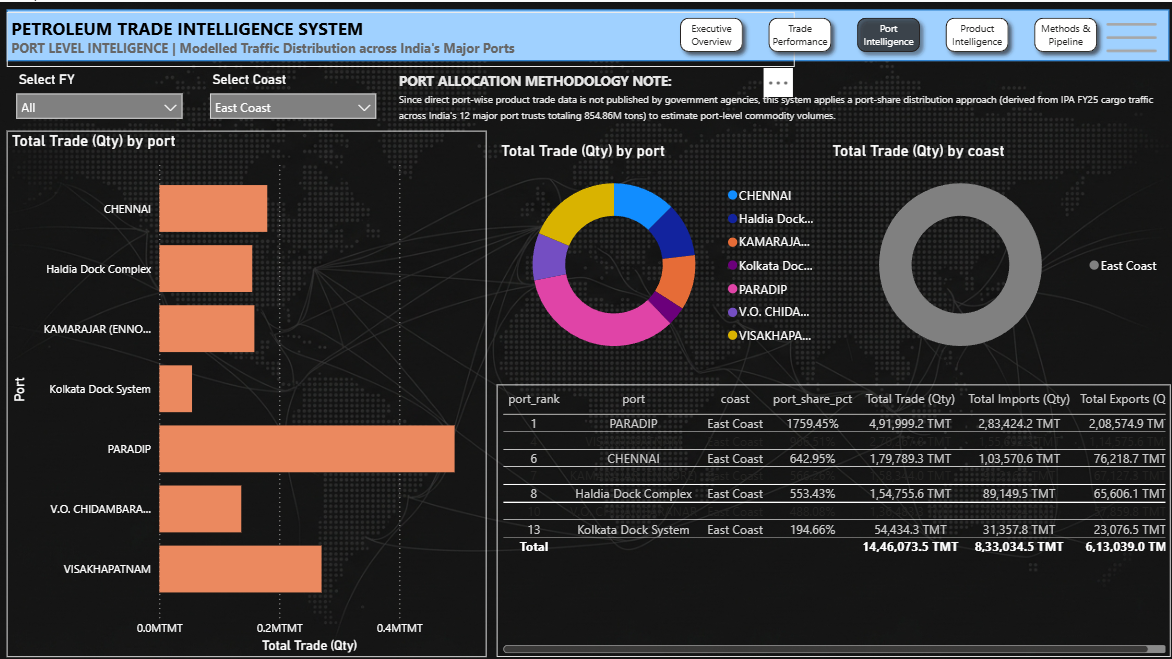

This screenshot's page, from the dashboard's own definition file:
{"tool":"powerbi","page":{"name":"Port Intelligence","canvas":[1280,720],"ordinal":2},"visuals":[{"type":"slicer","fields":{"Values":["Dim_Date.Year"]},"box":[9.6,70,200,60],"z":0},{"type":"slicer","fields":{"Values":["Dim_Port.coast"]},"box":[220,70,200,60],"z":1000},{"type":"textbox","box":[429.5,70,850.8,70],"z":2000},{"type":"clusteredBarChart","fields":{"Category":["Dim_Port.port"],"Y":["_Measures.Total Trade (Qty)"]},"box":[10,140,520,570],"z":3000},{"type":"donutChart","fields":{"Category":["Dim_Port.port"],"Y":["_Measures.Total Trade (Qty)"]},"box":[540.7,150.9,359.5,249.7],"z":4000},{"type":"donutChart","fields":{"Category":["Dim_Port.coast"],"Y":["_Measures.Total Trade (Qty)"]},"box":[900.2,150.9,370.5,249.7],"z":5000},{"type":"shape","box":[10,8,1260,56],"z":6000},{"type":"textbox","box":[10,11.4,852.9,58.6],"z":7000},{"type":"pageNavigator","box":[730,8.6,471.2,55],"z":8000},{"type":"tableEx","fields":{"Values":["Dim_Port.port_rank","Dim_Port.port","Dim_Port.coast","Dim_Port.port_share_pct","_Measures.Total Trade (Qty)","_Measures.Total Imports (Qty)","_Measures.Total Exports (Qty)"]},"box":[540.6,414.6,730.2,295.3],"z":9000},{"type":"image","box":[1190.9,0,78.6,80],"z":9001}]}

Visuals, with their boxes in screenshot pixels (x1, y1, x2, y2), scaled from the page's 1280x720 canvas onto the 1172x659 screenshot:
slicer - Dim_Date.Year: <bbox>9, 64, 192, 119</bbox>
slicer - Dim_Port.coast: <bbox>201, 64, 385, 119</bbox>
textbox: <bbox>393, 64, 1171, 128</bbox>
clusteredBarChart - Dim_Port.port x _Measures.Total Trade (Qty): <bbox>9, 128, 485, 650</bbox>
donutChart - Dim_Port.port x _Measures.Total Trade (Qty): <bbox>495, 138, 824, 367</bbox>
donutChart - Dim_Port.coast x _Measures.Total Trade (Qty): <bbox>824, 138, 1163, 367</bbox>
shape: <bbox>9, 7, 1163, 59</bbox>
textbox: <bbox>9, 10, 790, 64</bbox>
pageNavigator: <bbox>668, 8, 1100, 58</bbox>
tableEx - Dim_Port.port_rank x Dim_Port.port: <bbox>495, 379, 1164, 650</bbox>
image: <bbox>1090, 0, 1162, 73</bbox>
